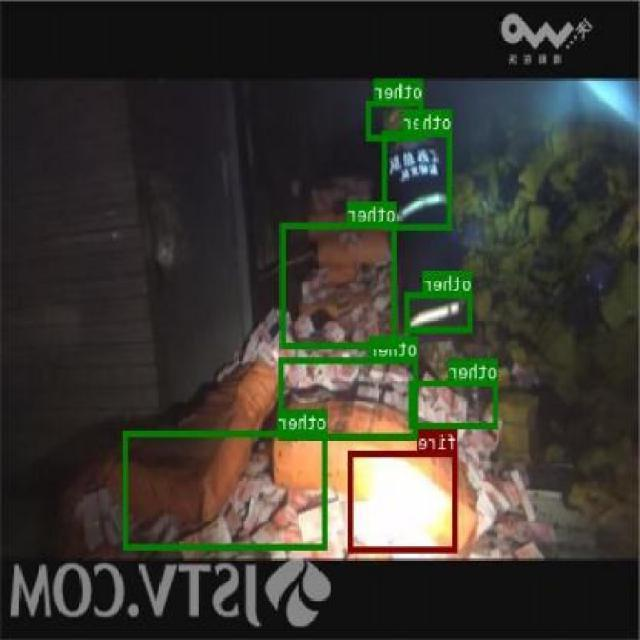Fire: (349, 450, 458, 552)
